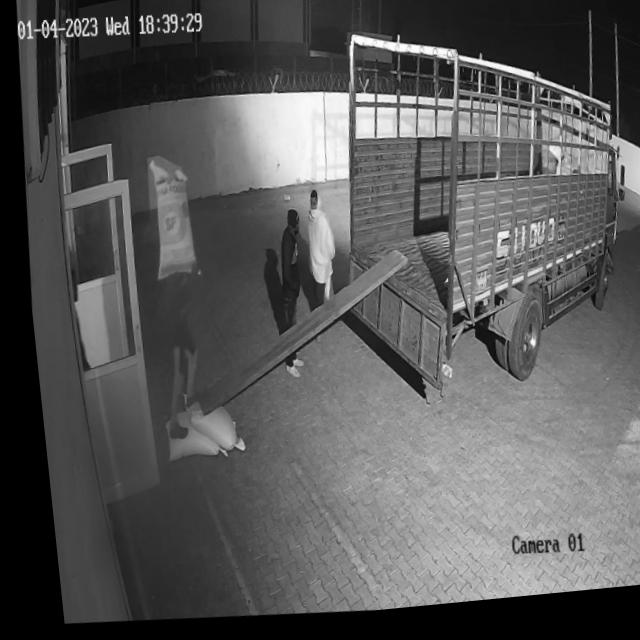sack: (141, 161, 198, 284), (173, 392, 237, 458), (151, 408, 221, 468)
